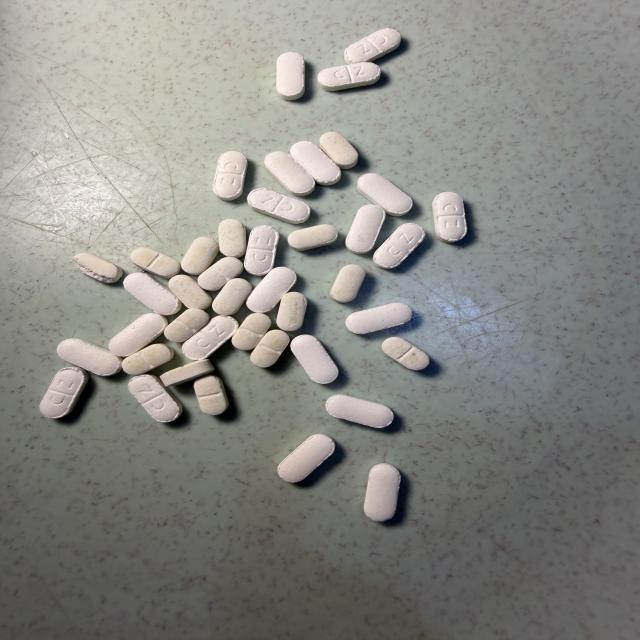pill: (278, 434, 335, 482), (129, 375, 182, 422), (109, 314, 168, 356), (123, 273, 182, 315), (40, 367, 88, 418), (183, 316, 238, 360), (373, 223, 425, 269), (57, 339, 121, 376), (358, 174, 412, 216), (291, 335, 338, 383), (264, 152, 315, 196), (290, 141, 341, 185), (248, 188, 310, 224), (326, 395, 393, 428), (247, 267, 296, 312), (364, 464, 400, 521), (346, 303, 412, 334), (345, 28, 401, 63), (346, 205, 385, 253), (244, 226, 279, 275), (433, 192, 467, 242), (318, 63, 380, 90), (213, 151, 247, 200), (382, 337, 429, 370), (123, 344, 173, 375), (131, 247, 180, 278), (198, 257, 243, 290), (212, 278, 252, 315), (73, 253, 122, 283), (165, 309, 209, 342), (250, 330, 289, 367), (169, 275, 211, 309), (181, 237, 218, 275), (320, 132, 358, 169), (160, 360, 214, 386), (232, 314, 271, 350), (276, 52, 304, 100), (330, 264, 365, 302), (194, 376, 228, 415), (288, 224, 337, 251), (277, 292, 307, 331), (218, 219, 246, 257)
